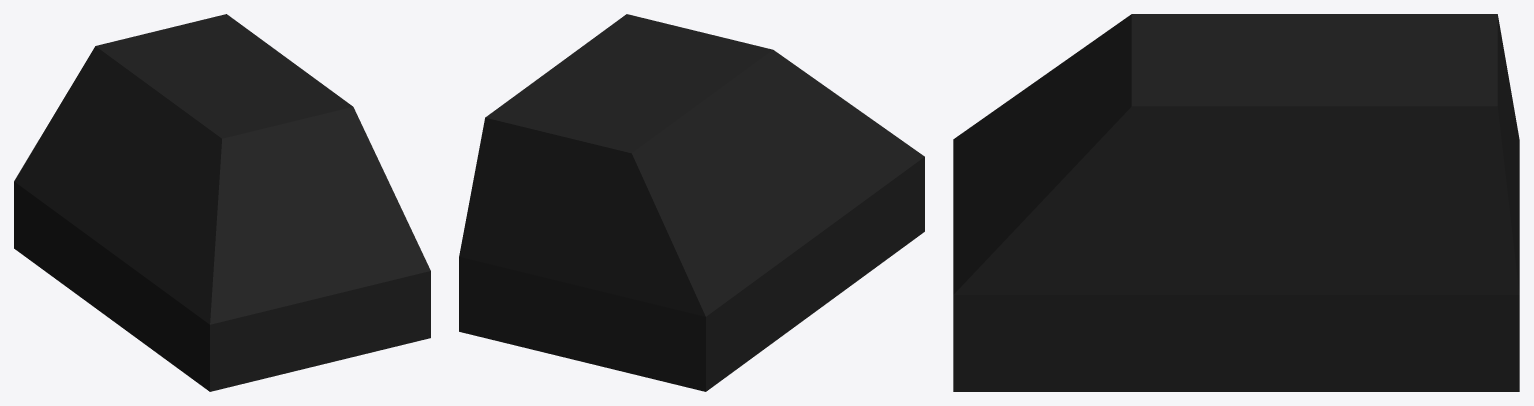
Rendered from zombiefootr.obj.
3 renders of one model, left to right at view 1: azimuth 30°, elevation 25°; view 2: azimuth 150°, elevation 25°; view 3: azimuth 270°, elevation 25°, orthographic. The views are drawn at different scales.
Visible parts, largest first — view 1: cube2; view 2: cube2; view 3: cube2.
Boxes of the visible parts, <box> form: cube2: <box>14,14,430,391</box>; cube2: <box>459,14,924,391</box>; cube2: <box>953,14,1519,391</box>.
Bounding box in the file's own units: 12.23 × 10.06 × 18.8.
1 material, 1 textured.
